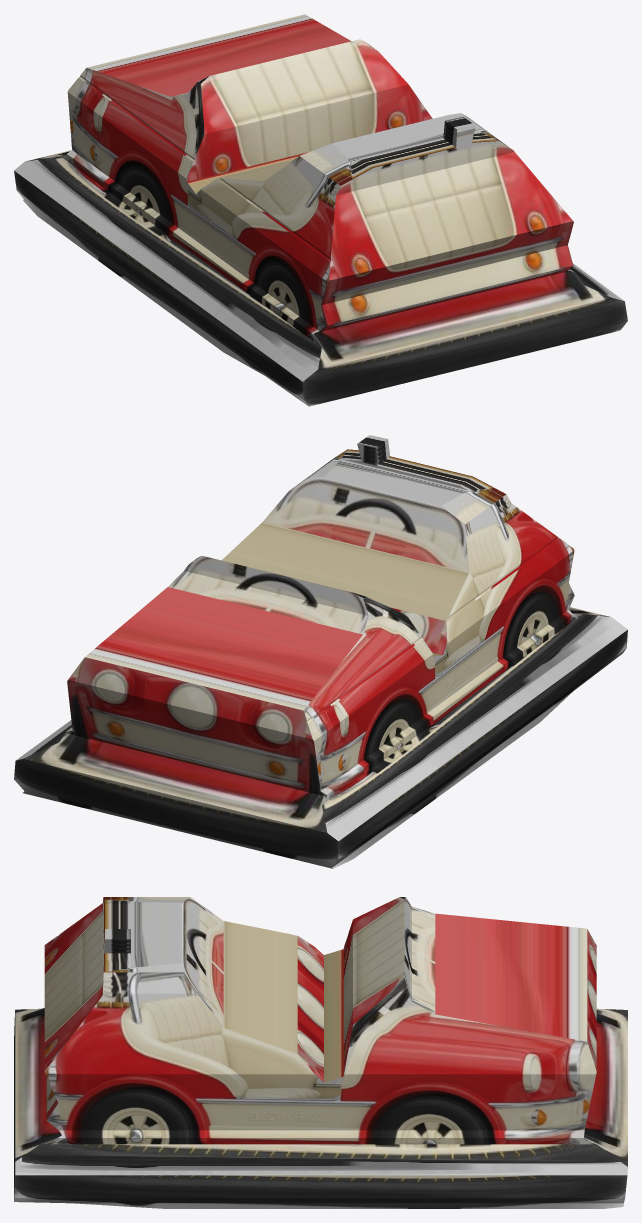
The model's file is bumper_car.glb.
The picture shows the model from 3 angles, top to bottom: view 1: azimuth 30°, elevation 25°; view 2: azimuth 150°, elevation 25°; view 3: azimuth 270°, elevation 25°; orthographic projection. The views are drawn at different scales.
Parts seen in each view (by area): view 1: bumper_car; view 2: bumper_car; view 3: bumper_car.
Part boxes in pixels (x1=…): bumper_car: x1=14, y1=14, x2=627, y2=406; bumper_car: x1=14, y1=435, x2=627, y2=868; bumper_car: x1=14, y1=897, x2=627, y2=1208.
Bounding box in the file's own units: 1.28 × 0.7954 × 1.98.
Materials: 2 (1 with a texture image).
